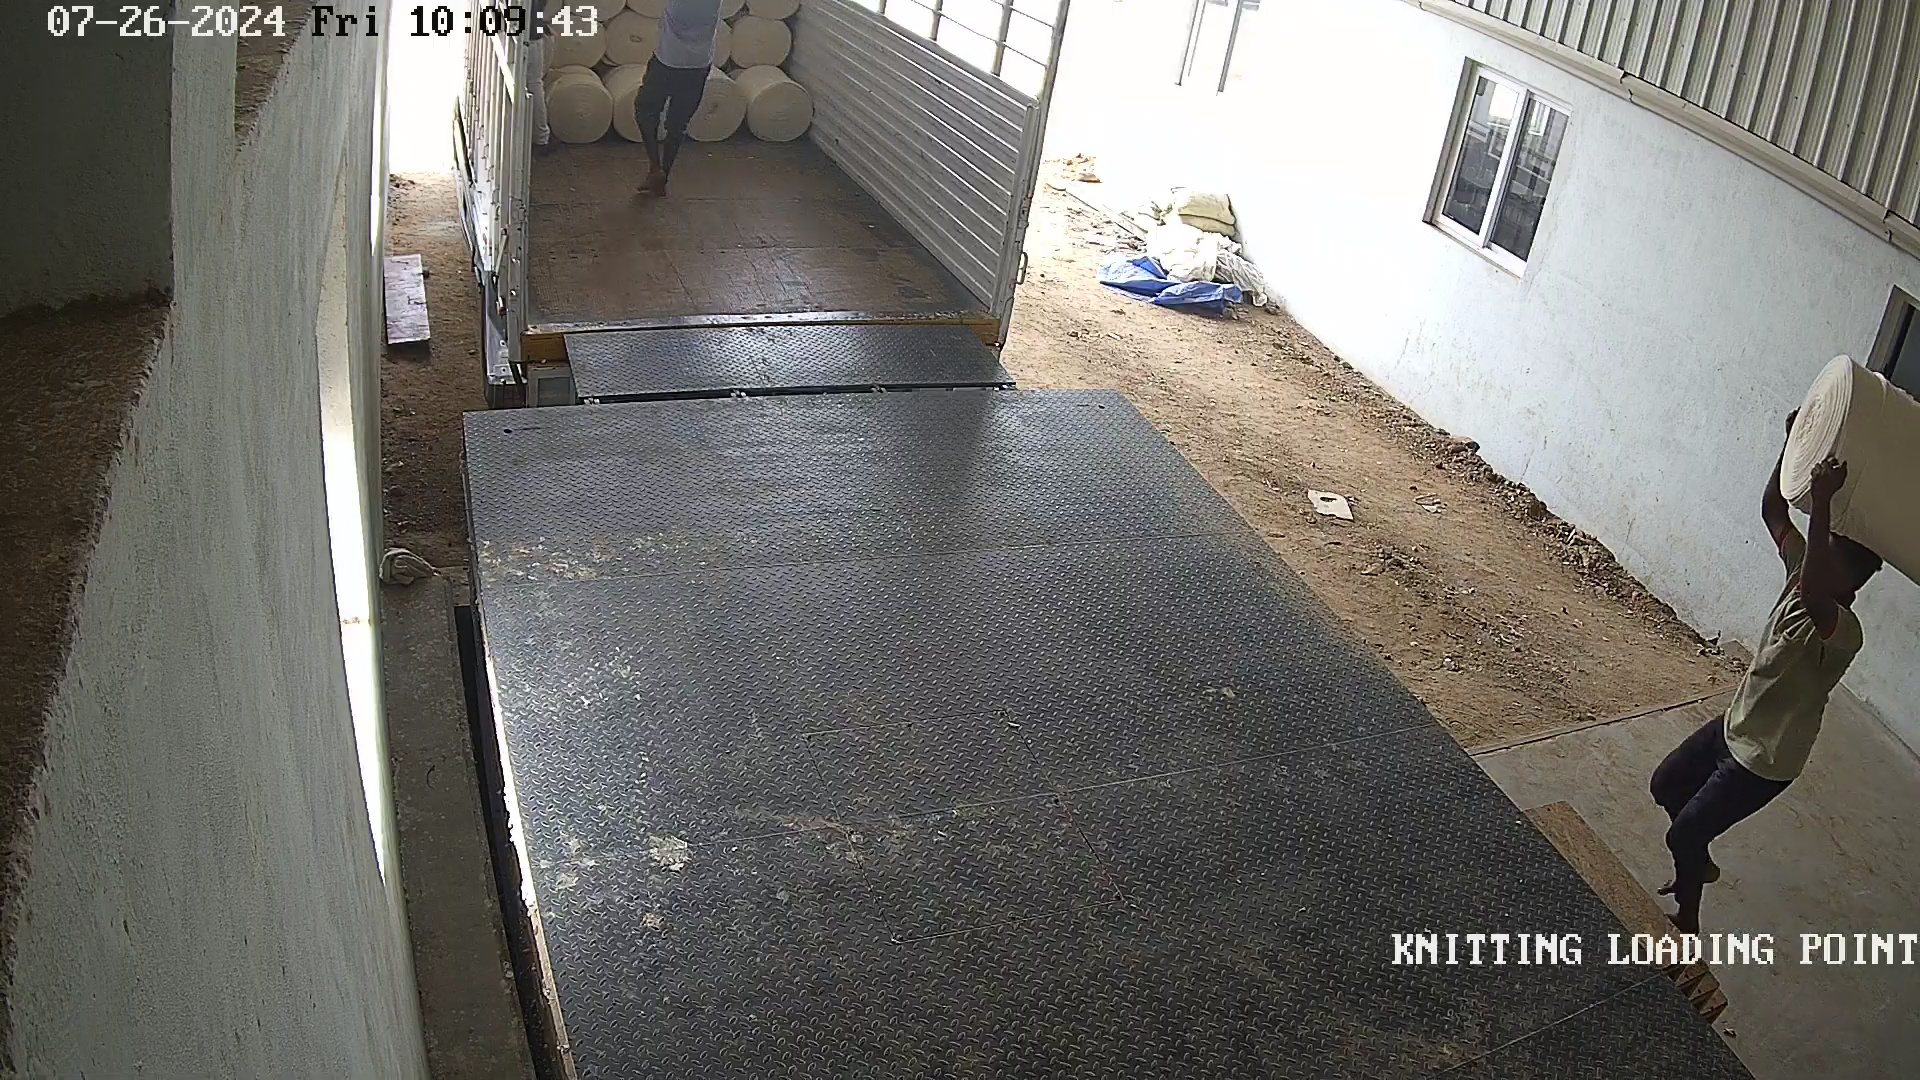bag: (1772, 355, 1920, 592)
